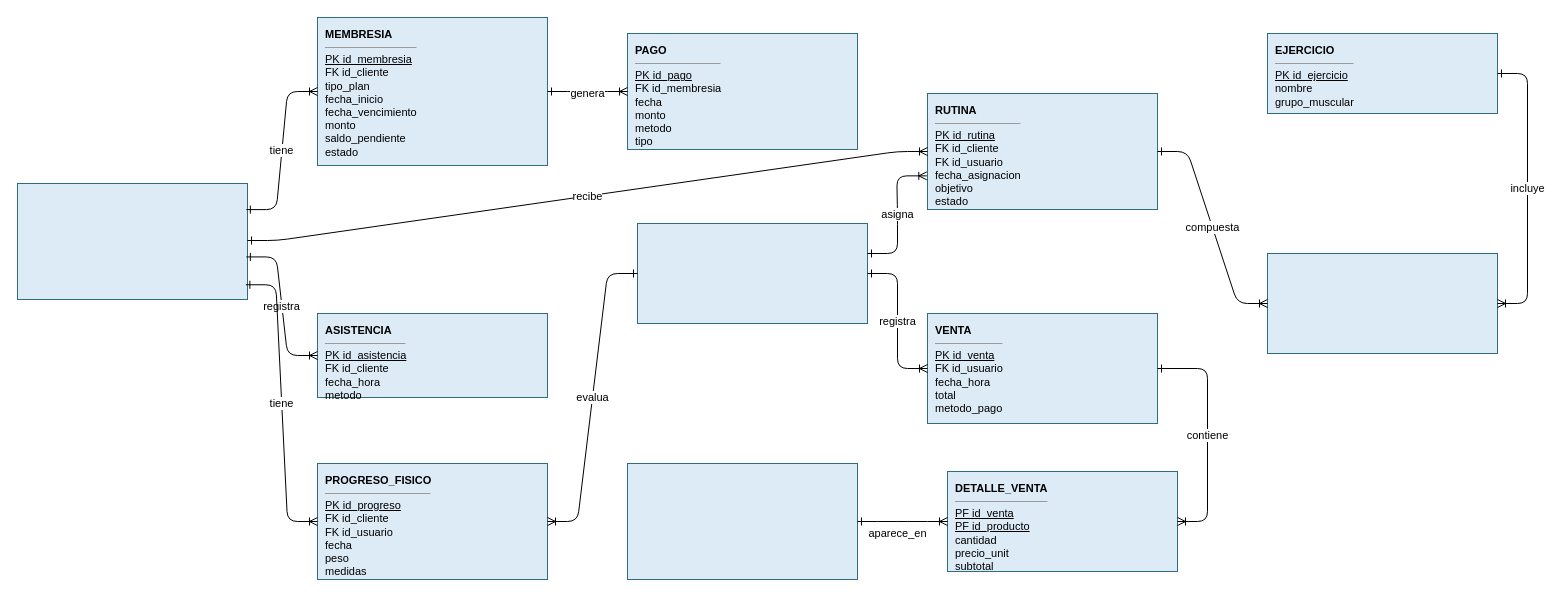
The diagram is 1562 pixels wide and 597 high, and some of its shapes have lost their labels. Here are the shapes that lost their labels. From the top down, the centre of each, then its label:
the point at 132,241: CLIENTE PK id_cliente cedula [U] nombre telefono email estado
the point at 752,273: USUARIO PK id_usuario username [U] password_hash rol estado
the point at 1382,303: DETALLE_RUTINA PF id_rutina PF id_ejercicio series repeticiones
the point at 742,521: PRODUCTO PK id_producto nombre categoria precio stock stock_minimo
